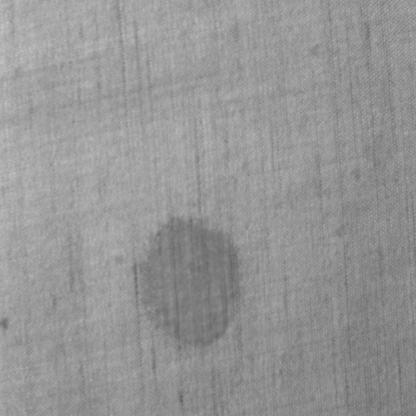oil spot: (139, 214, 241, 349)
